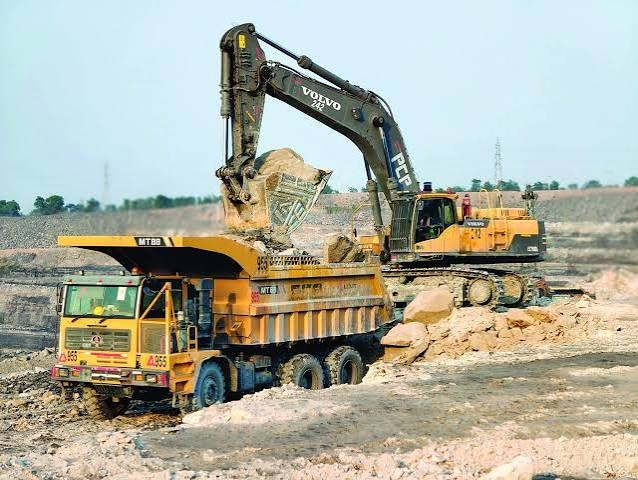excavator: (200, 11, 558, 334)
truck: (52, 219, 411, 423)
